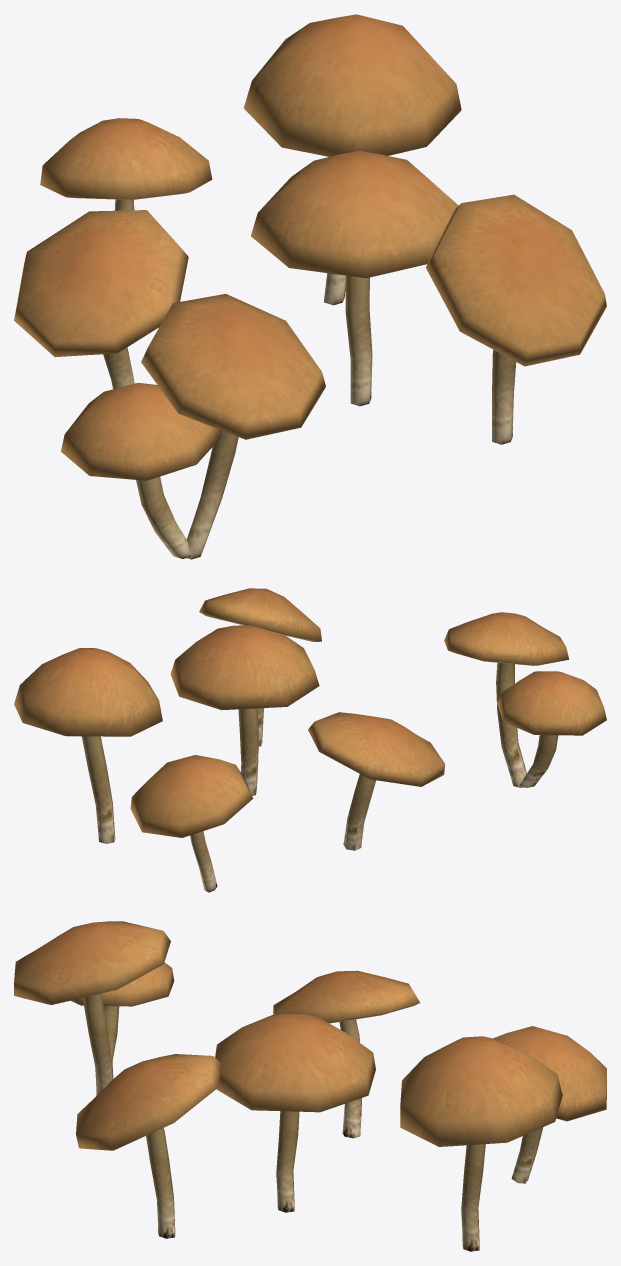
3 views of the same model, one above another, from view 1: azimuth 30°, elevation 25°; view 2: azimuth 150°, elevation 25°; view 3: azimuth 270°, elevation 25° (orthographic). The views are drawn at different scales.
Visible parts, largest first — view 1: body0_model0_lod0_mesh0; view 2: body0_model0_lod0_mesh0; view 3: body0_model0_lod0_mesh0.
Part boxes in pixels (<box>): body0_model0_lod0_mesh0: <box>14,14,606,559</box>; body0_model0_lod0_mesh0: <box>14,588,606,892</box>; body0_model0_lod0_mesh0: <box>14,921,606,1251</box>.
Size of the model in its own units: 21.44 by 9.44 by 23.08.
1 material, 1 textured.
